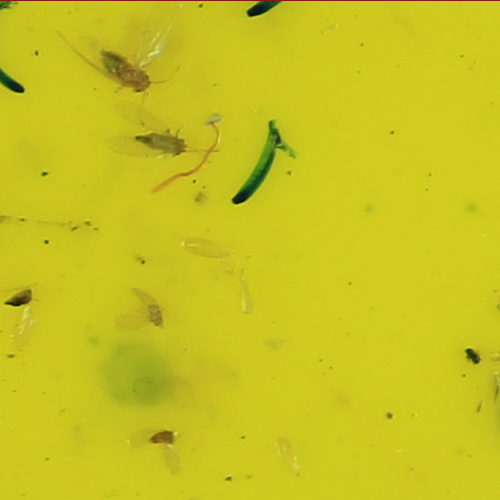psylla: (99, 43, 151, 94), (137, 126, 189, 156), (148, 424, 182, 447), (6, 284, 37, 309), (144, 298, 166, 333)
